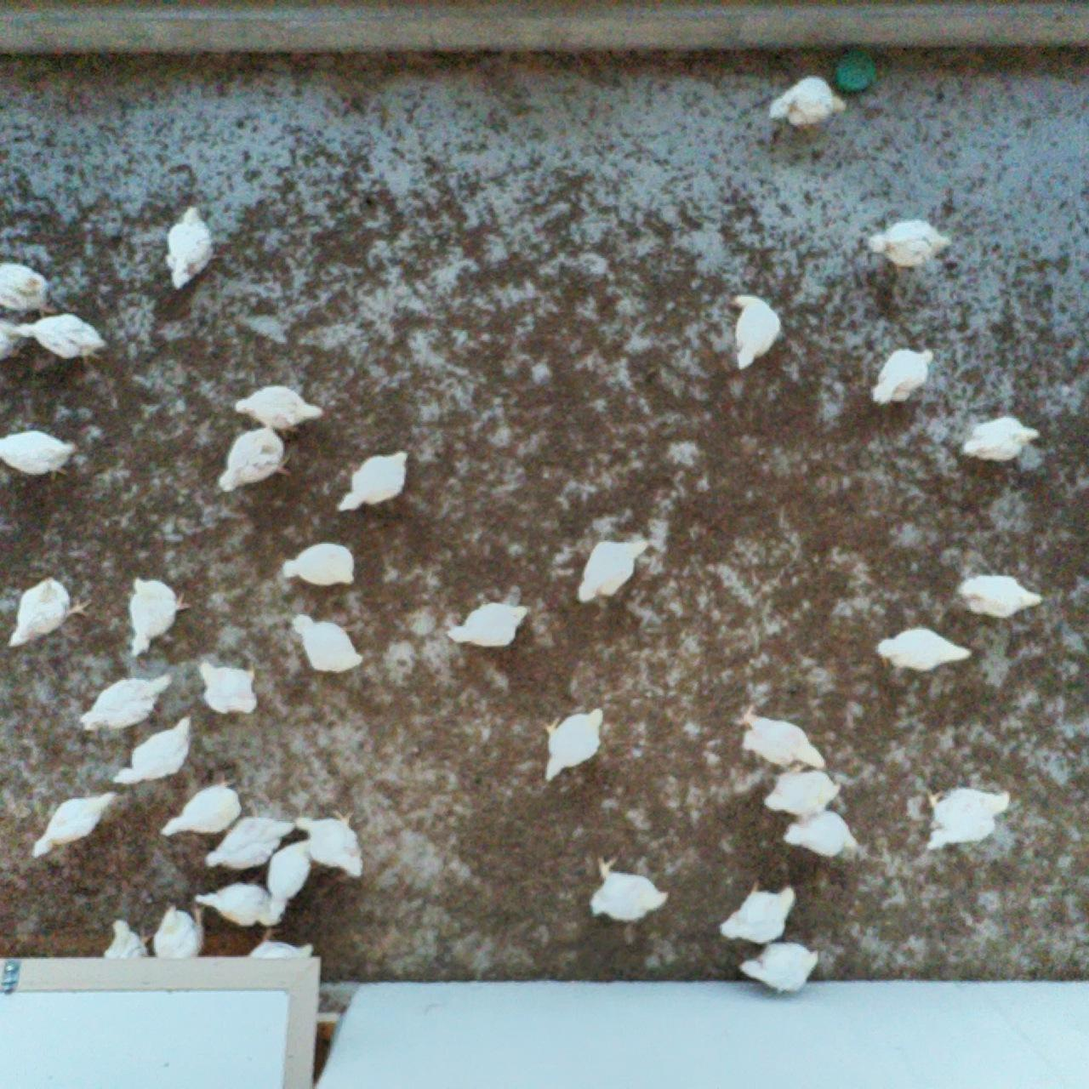chicken: (731, 700, 834, 775), (202, 794, 301, 871), (1, 573, 95, 654), (27, 785, 122, 865), (915, 779, 1018, 852), (77, 668, 182, 739), (106, 711, 198, 788), (584, 850, 673, 927), (214, 423, 302, 498), (535, 701, 608, 791), (157, 203, 225, 296), (123, 572, 191, 664), (10, 309, 116, 368), (157, 771, 246, 840), (289, 805, 369, 881), (230, 379, 326, 442), (573, 534, 653, 609), (717, 876, 801, 947), (734, 933, 824, 999), (874, 624, 974, 683), (723, 288, 787, 375), (288, 608, 366, 679), (336, 446, 415, 516), (863, 213, 955, 273), (951, 568, 1045, 626), (766, 71, 851, 135), (955, 408, 1044, 468), (280, 538, 364, 601), (759, 760, 844, 821), (190, 875, 287, 928), (443, 599, 533, 655), (867, 345, 940, 412), (264, 835, 318, 920), (779, 807, 863, 861), (0, 428, 80, 483), (196, 655, 263, 720), (150, 898, 209, 965), (0, 260, 60, 320), (245, 923, 315, 961), (98, 915, 153, 963), (0, 315, 37, 369)
